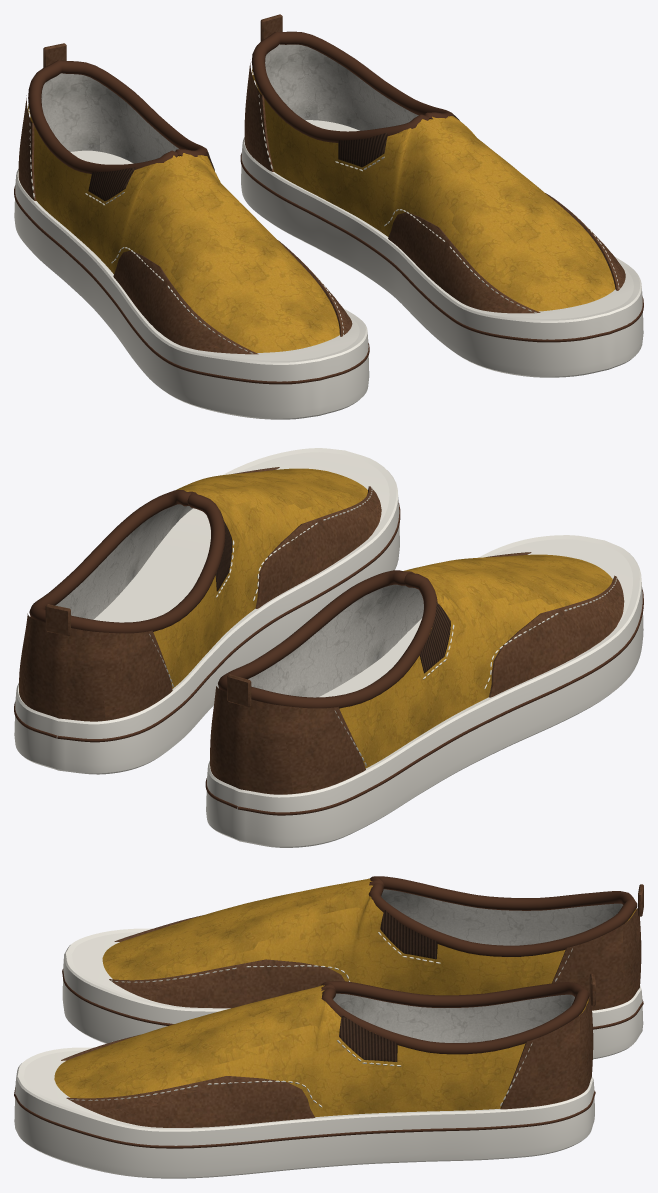
File: slip-on-shoe.glb
The picture shows the model from 3 angles, top to bottom: view 1: azimuth 30°, elevation 25°; view 2: azimuth 150°, elevation 25°; view 3: azimuth 270°, elevation 25°; orthographic projection. The views are drawn at different scales.
Visible parts, largest first — view 1: Left_Shoe, Right_Shoe; view 2: Right_Shoe, Left_Shoe; view 3: Left_Shoe, Right_Shoe.
Part boxes in pixels (x1=…): Left_Shoe: x1=240, y1=14, x2=643, y2=377; Right_Shoe: x1=14, y1=43, x2=369, y2=419; Right_Shoe: x1=205, y1=535, x2=643, y2=847; Left_Shoe: x1=14, y1=448, x2=400, y2=774; Left_Shoe: x1=14, y1=973, x2=595, y2=1178; Right_Shoe: x1=62, y1=876, x2=643, y2=1059.
Bounding box in the file's own units: 0.2371 × 0.0815 × 0.3144.
9 materials, 6 textured.
